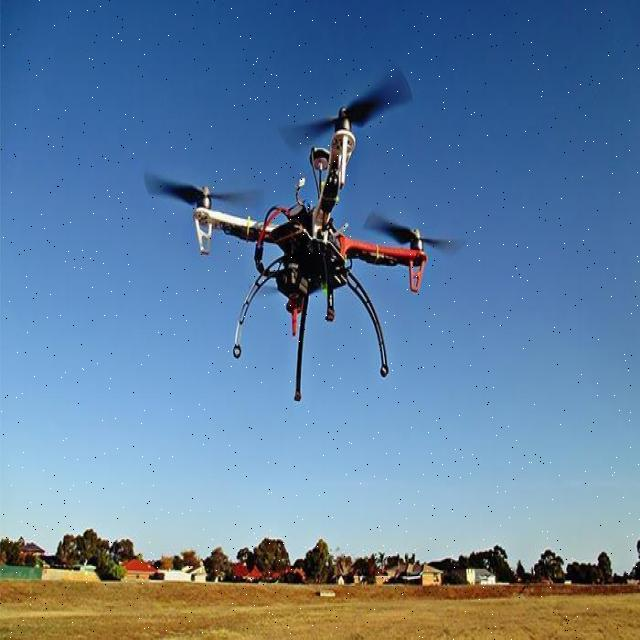UAV: (190, 102, 425, 408)
